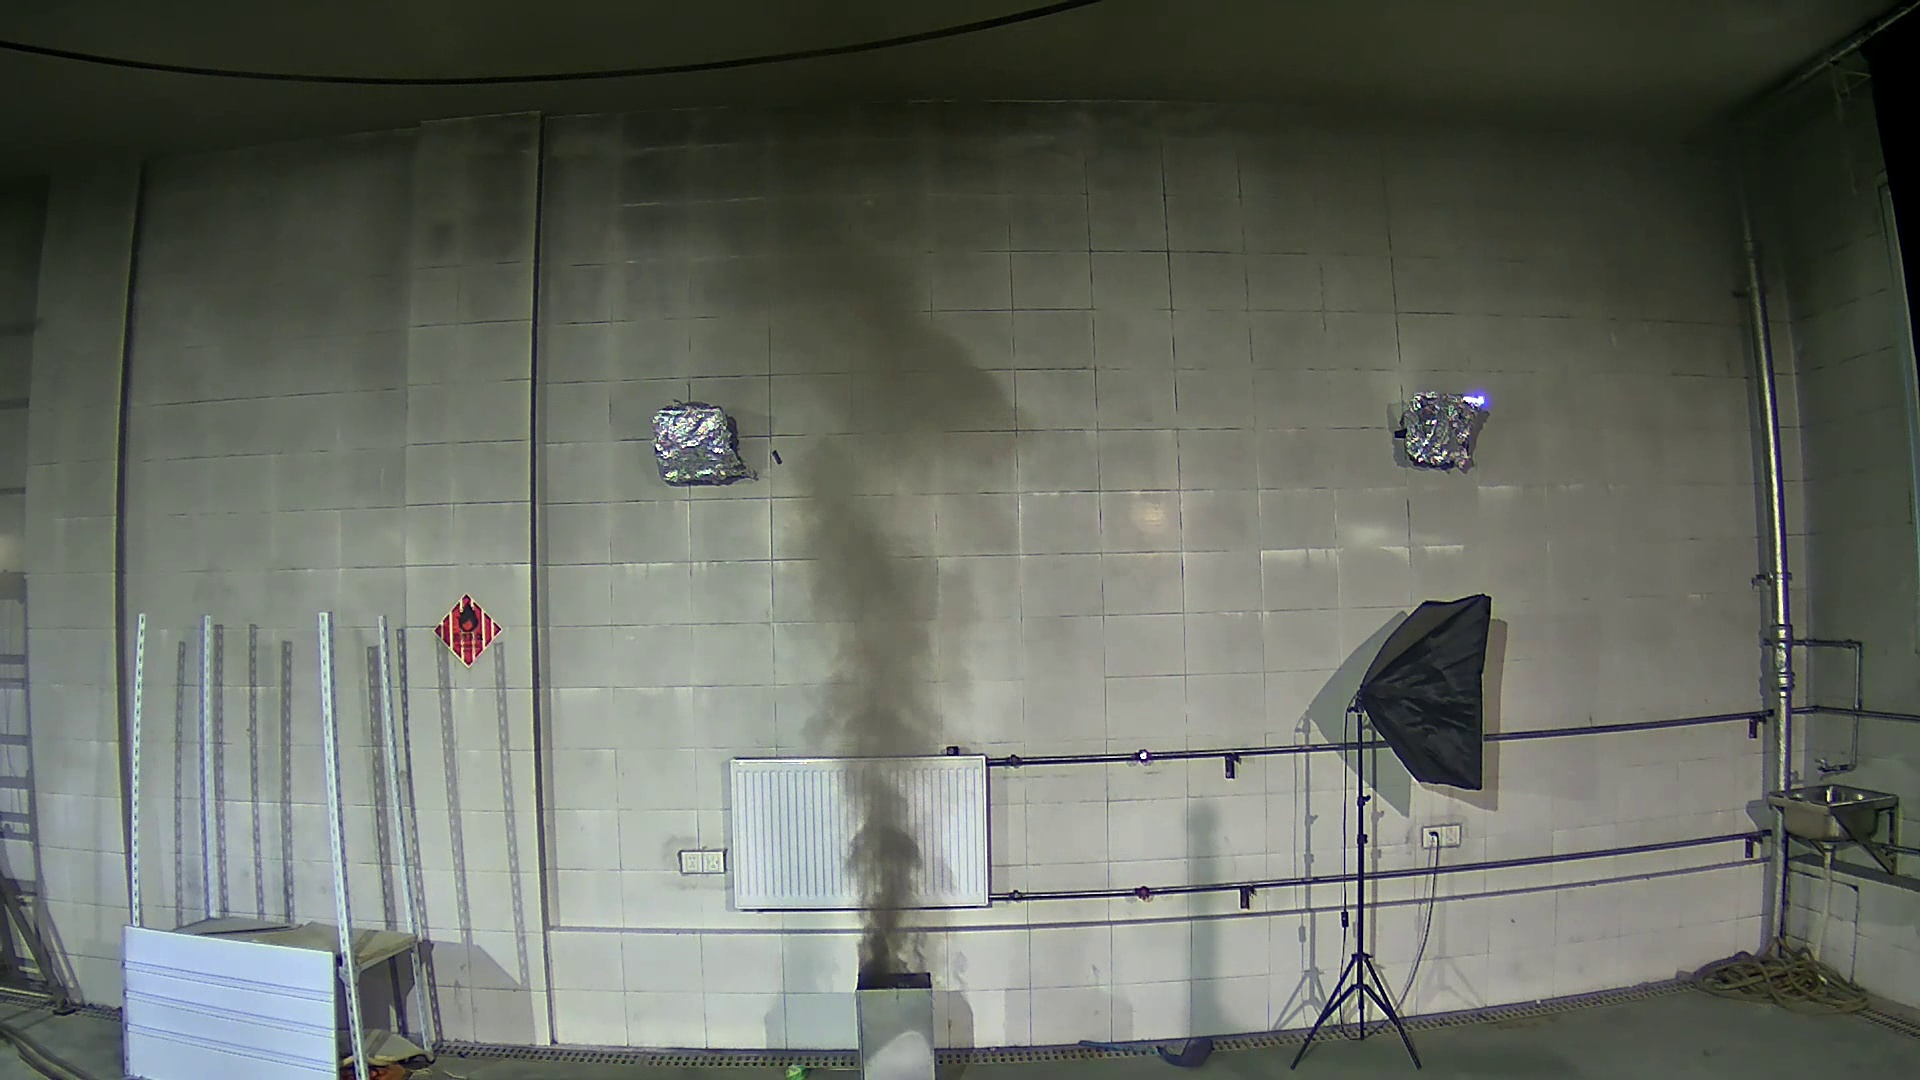smoke: (754, 293, 1087, 972)
